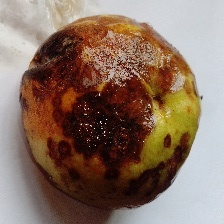guava: (62, 35, 197, 206)
